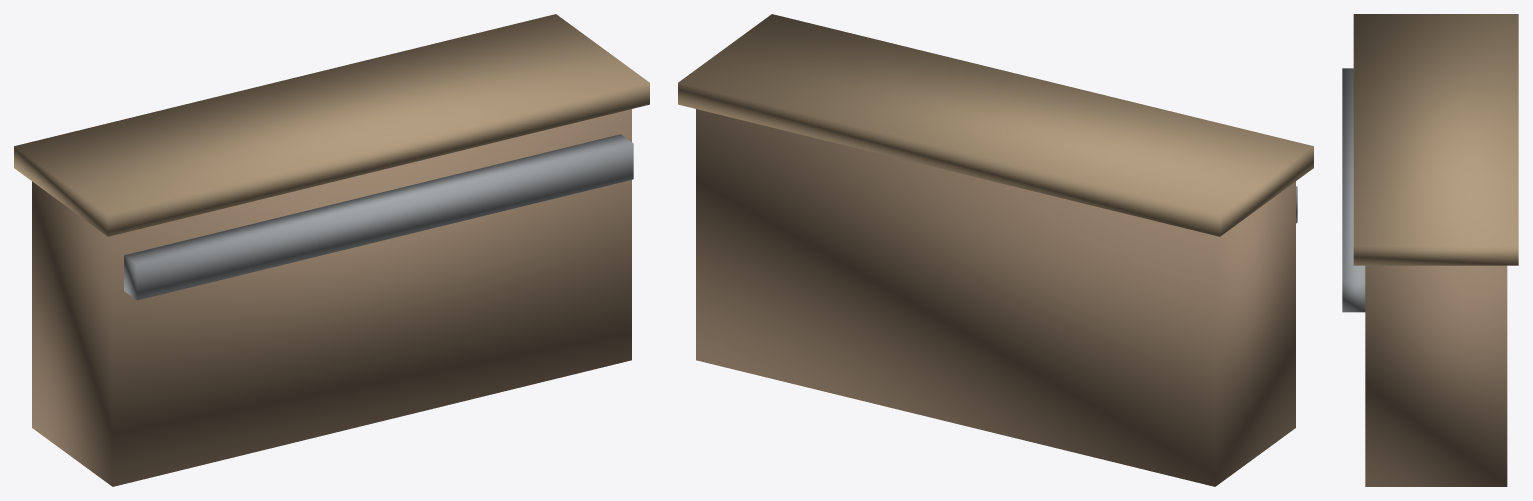
The model's file is bar_counter__tall.glb.
3 views of the same model, side by side, from view 1: azimuth 30°, elevation 25°; view 2: azimuth 150°, elevation 25°; view 3: azimuth 270°, elevation 25° (orthographic). The views are drawn at different scales.
Parts seen in each view (by area): view 1: world; view 2: world; view 3: world.
Boxes of the visible parts, x1=… form: world: x1=14, y1=14, x2=649, y2=486; world: x1=678, y1=14, x2=1313, y2=486; world: x1=1342, y1=14, x2=1518, y2=486.
Size of the model in its own units: 2.4 by 1.18 by 0.77.
